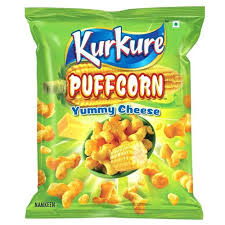kurkure: (62, 23, 169, 72)
plastic: (23, 5, 207, 221)
wrapper: (21, 2, 209, 225)
